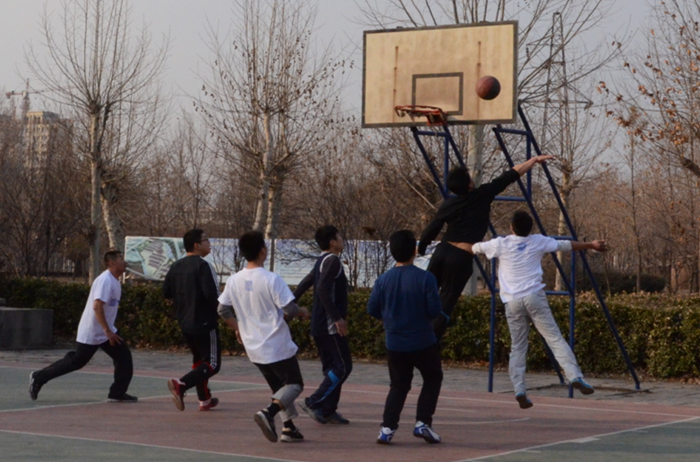ball: (473, 71, 502, 103)
basket: (390, 100, 449, 148)
player: (452, 206, 602, 411), (413, 157, 543, 308), (219, 227, 306, 442), (368, 228, 452, 444), (28, 246, 139, 405), (292, 219, 355, 426), (158, 225, 227, 406)
